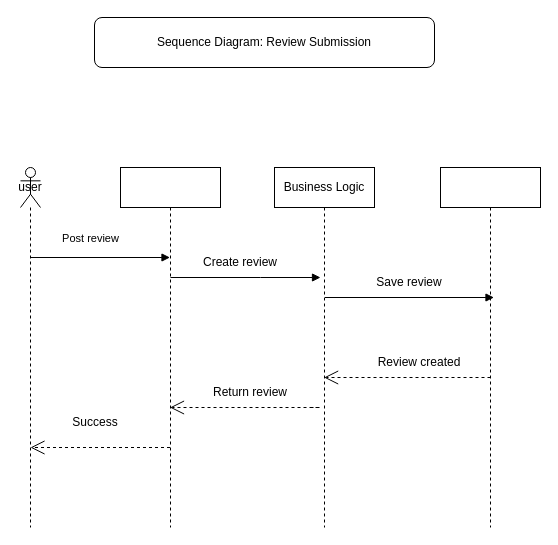
Image size: 558x545. Some labels were removed from this diagram. Each missing label, with the box of its shape:
API: (120, 166, 220, 528)
Database: (440, 166, 540, 528)
